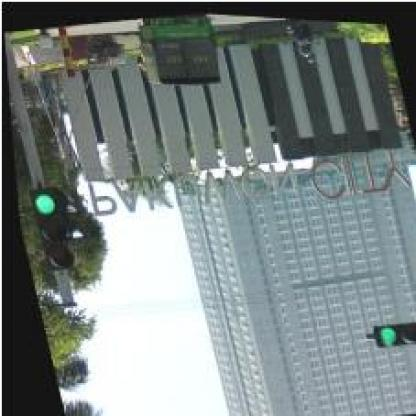green: (24, 184, 68, 274), (366, 312, 415, 348)
